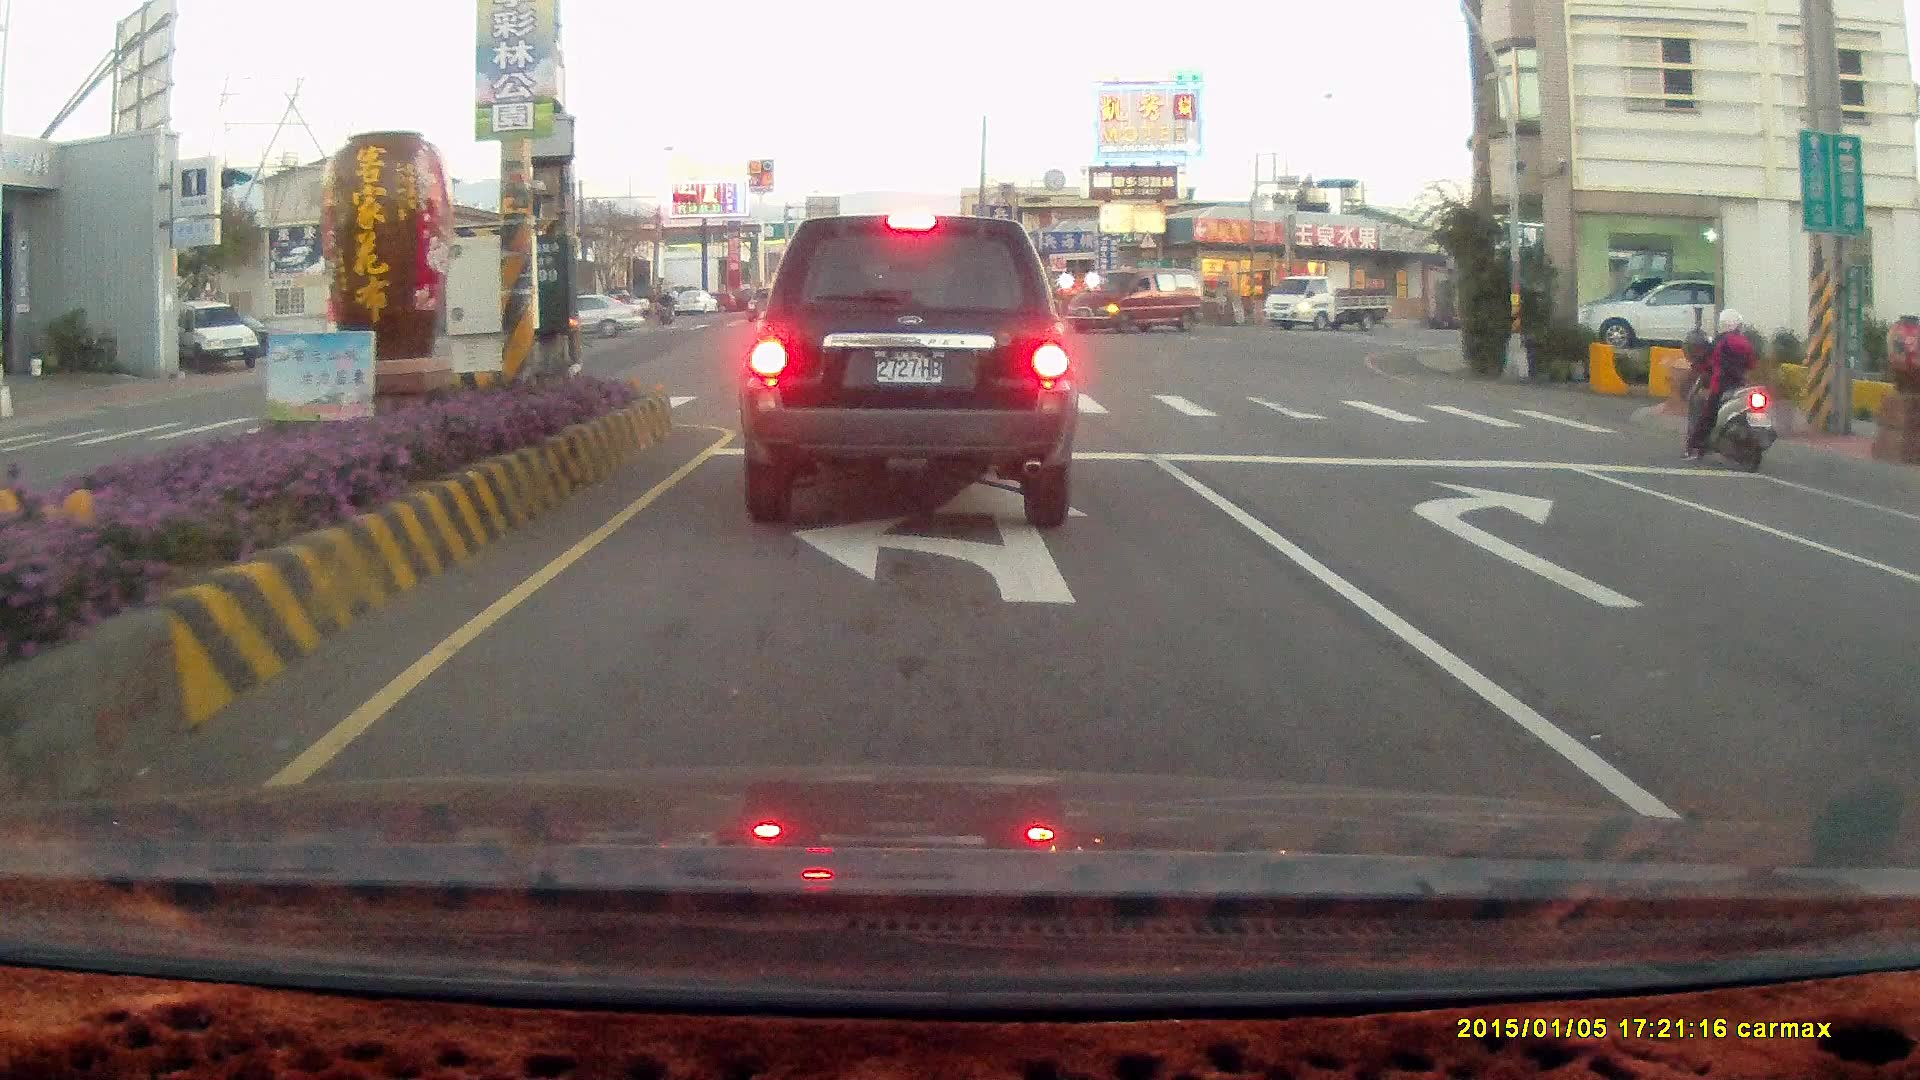rider: (1681, 308, 1777, 475), (655, 289, 676, 326)
vehicle: (736, 212, 1077, 527), (1564, 273, 1761, 350), (1069, 267, 1204, 333), (1583, 281, 1716, 348), (1072, 268, 1207, 334), (1896, 493, 1920, 836), (1263, 275, 1395, 336), (156, 296, 256, 372), (1883, 528, 1920, 690), (522, 290, 642, 339), (518, 293, 640, 339)
